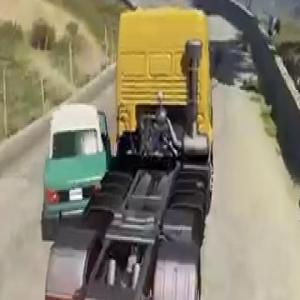significant: (35, 0, 218, 300)
